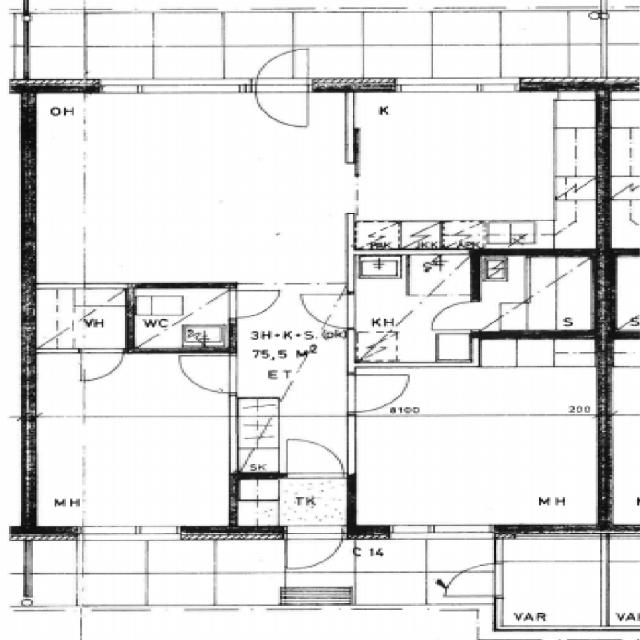door: (254, 37, 312, 93), (254, 78, 312, 134), (285, 526, 343, 581), (174, 354, 238, 394), (288, 433, 343, 478), (346, 375, 409, 413), (446, 563, 503, 597), (300, 295, 355, 328), (80, 347, 124, 383), (432, 302, 481, 330), (230, 292, 276, 318)
